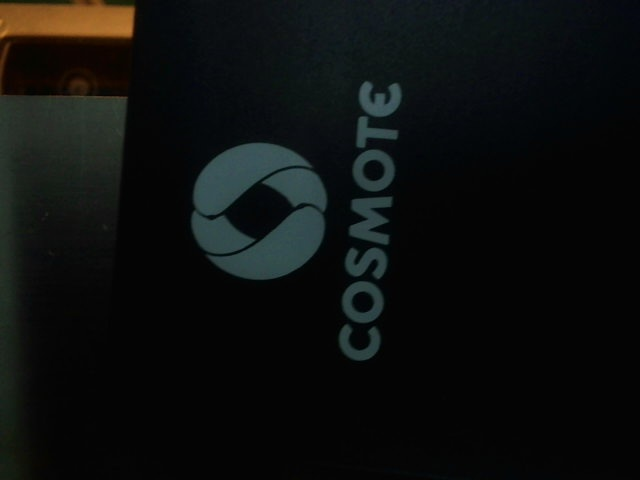AU_COSMOTE: (187, 67, 411, 363)
